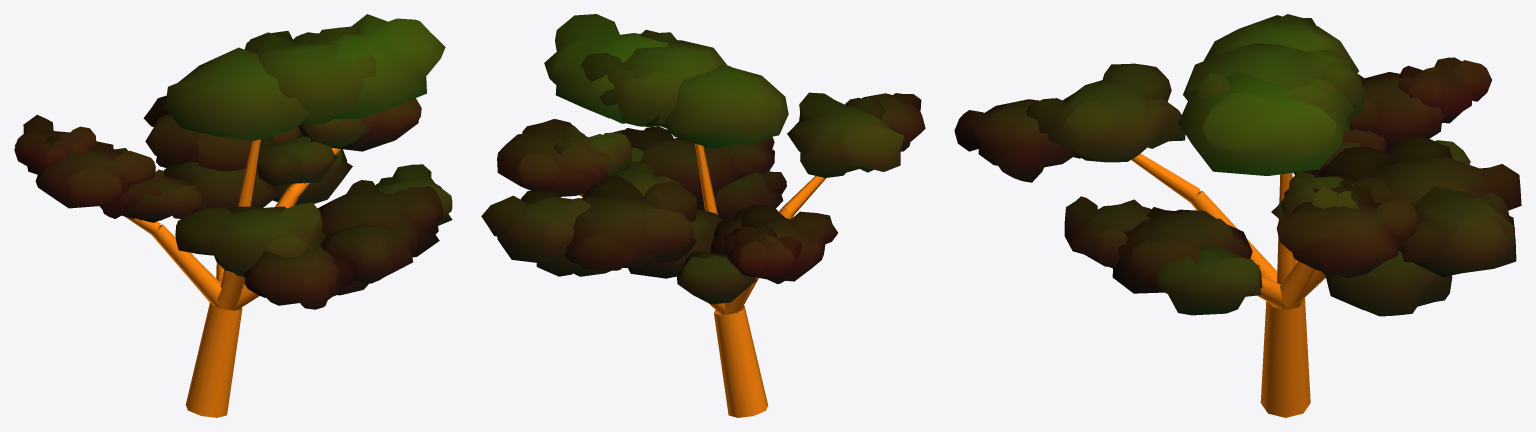
The model's file is Cypress_B.fbx.
3 views of the same model, side by side, from view 1: azimuth 30°, elevation 25°; view 2: azimuth 150°, elevation 25°; view 3: azimuth 270°, elevation 25° (orthographic). The views are drawn at different scales.
Parts seen in each view (by area): view 1: Cypress_B; view 2: Cypress_B; view 3: Cypress_B.
Boxes of the visible parts, box(x1,y1,x2,y2) form: Cypress_B: box(14, 14, 452, 417); Cypress_B: box(481, 14, 925, 417); Cypress_B: box(954, 14, 1521, 417).
Size of the model in its own units: 11.55 by 11.31 by 14.07.
